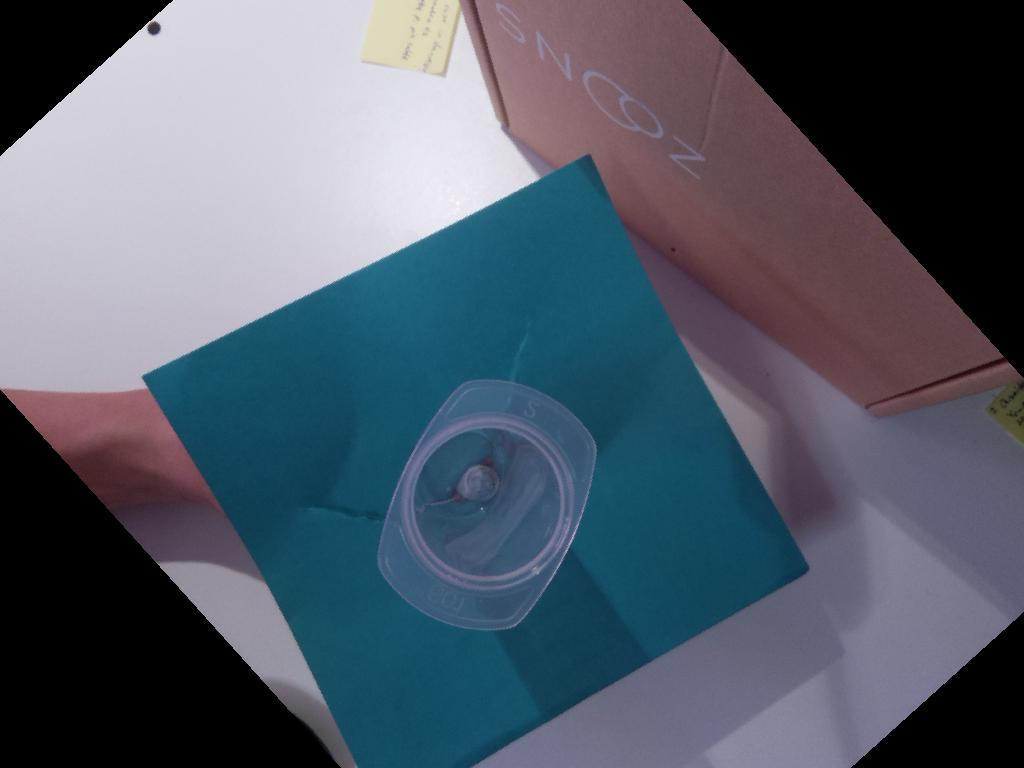clean: (376, 378, 598, 633)
